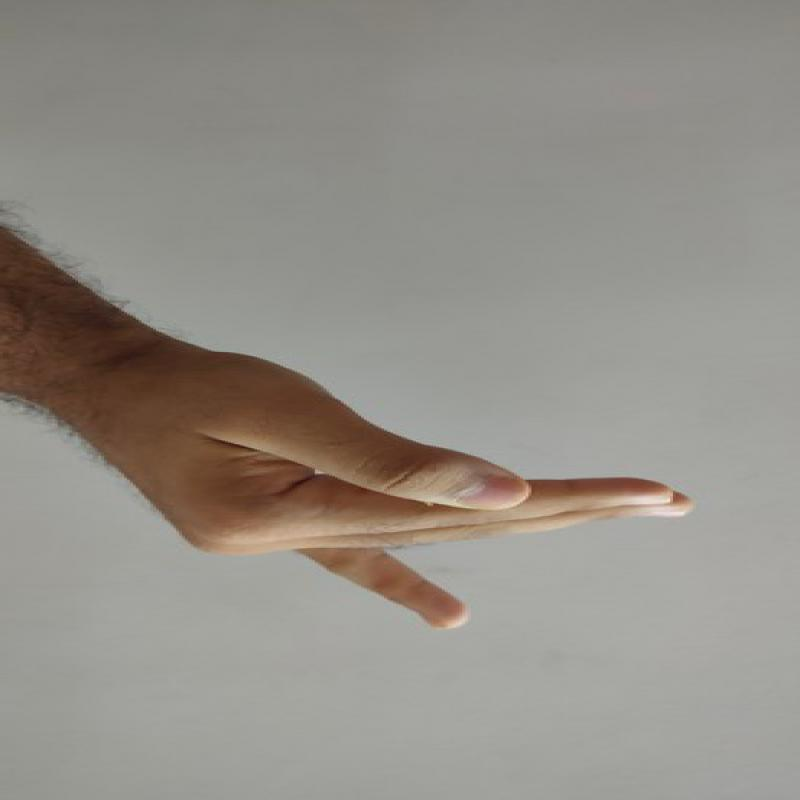Kartharee Mukham: (109, 324, 707, 636)
